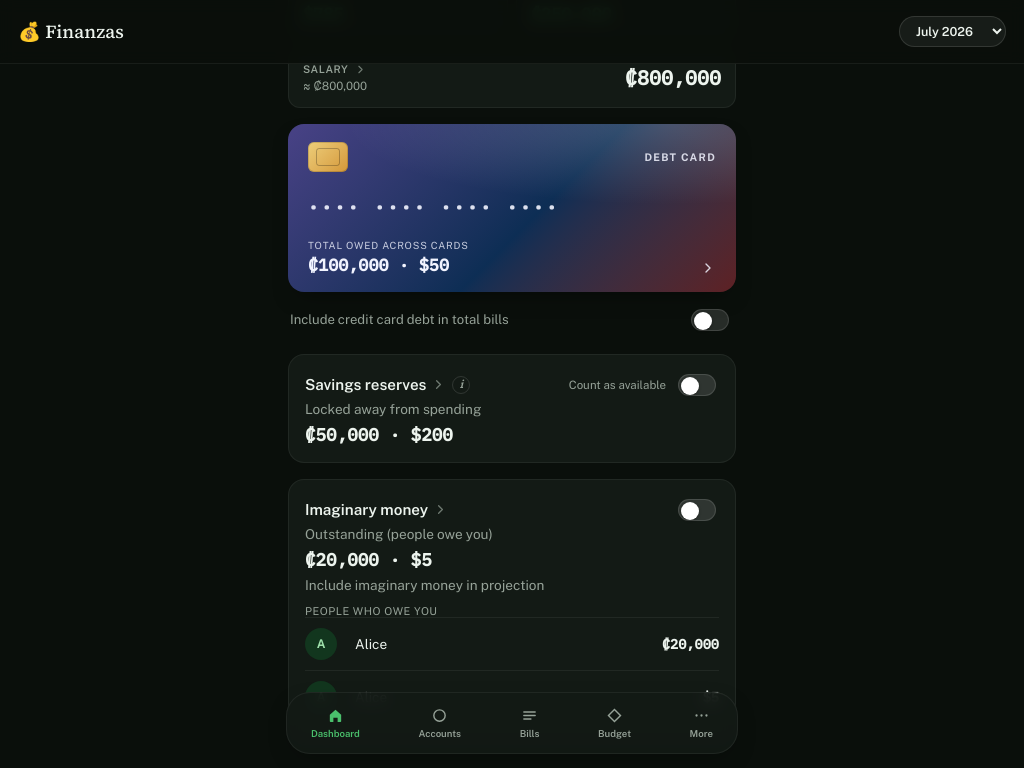
Test: Dashboard — with data › counts reserves as available in the emergency view
The width and height of the screenshot is (1024, 768).
(page scrolled)
Click the checkbox labelled "Count as available": click(697, 385) [678,374,716,396]
(page scrolled)
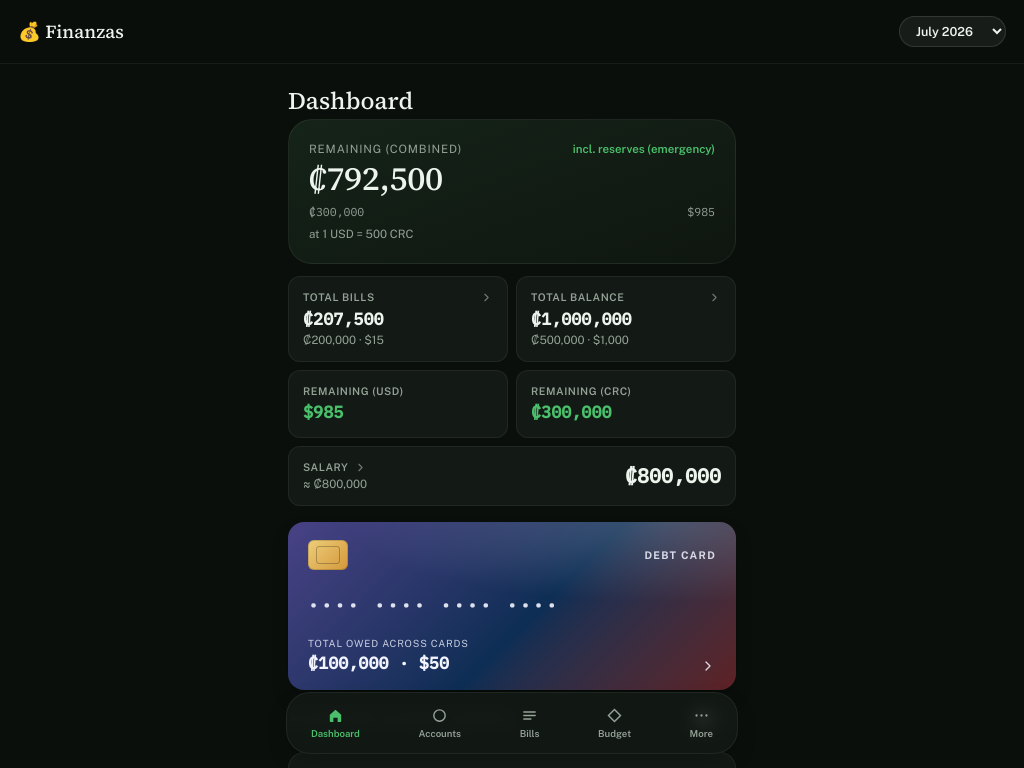
Expected: the text "incl. reserves (emergency)" is shown, [573,142,715,156]
